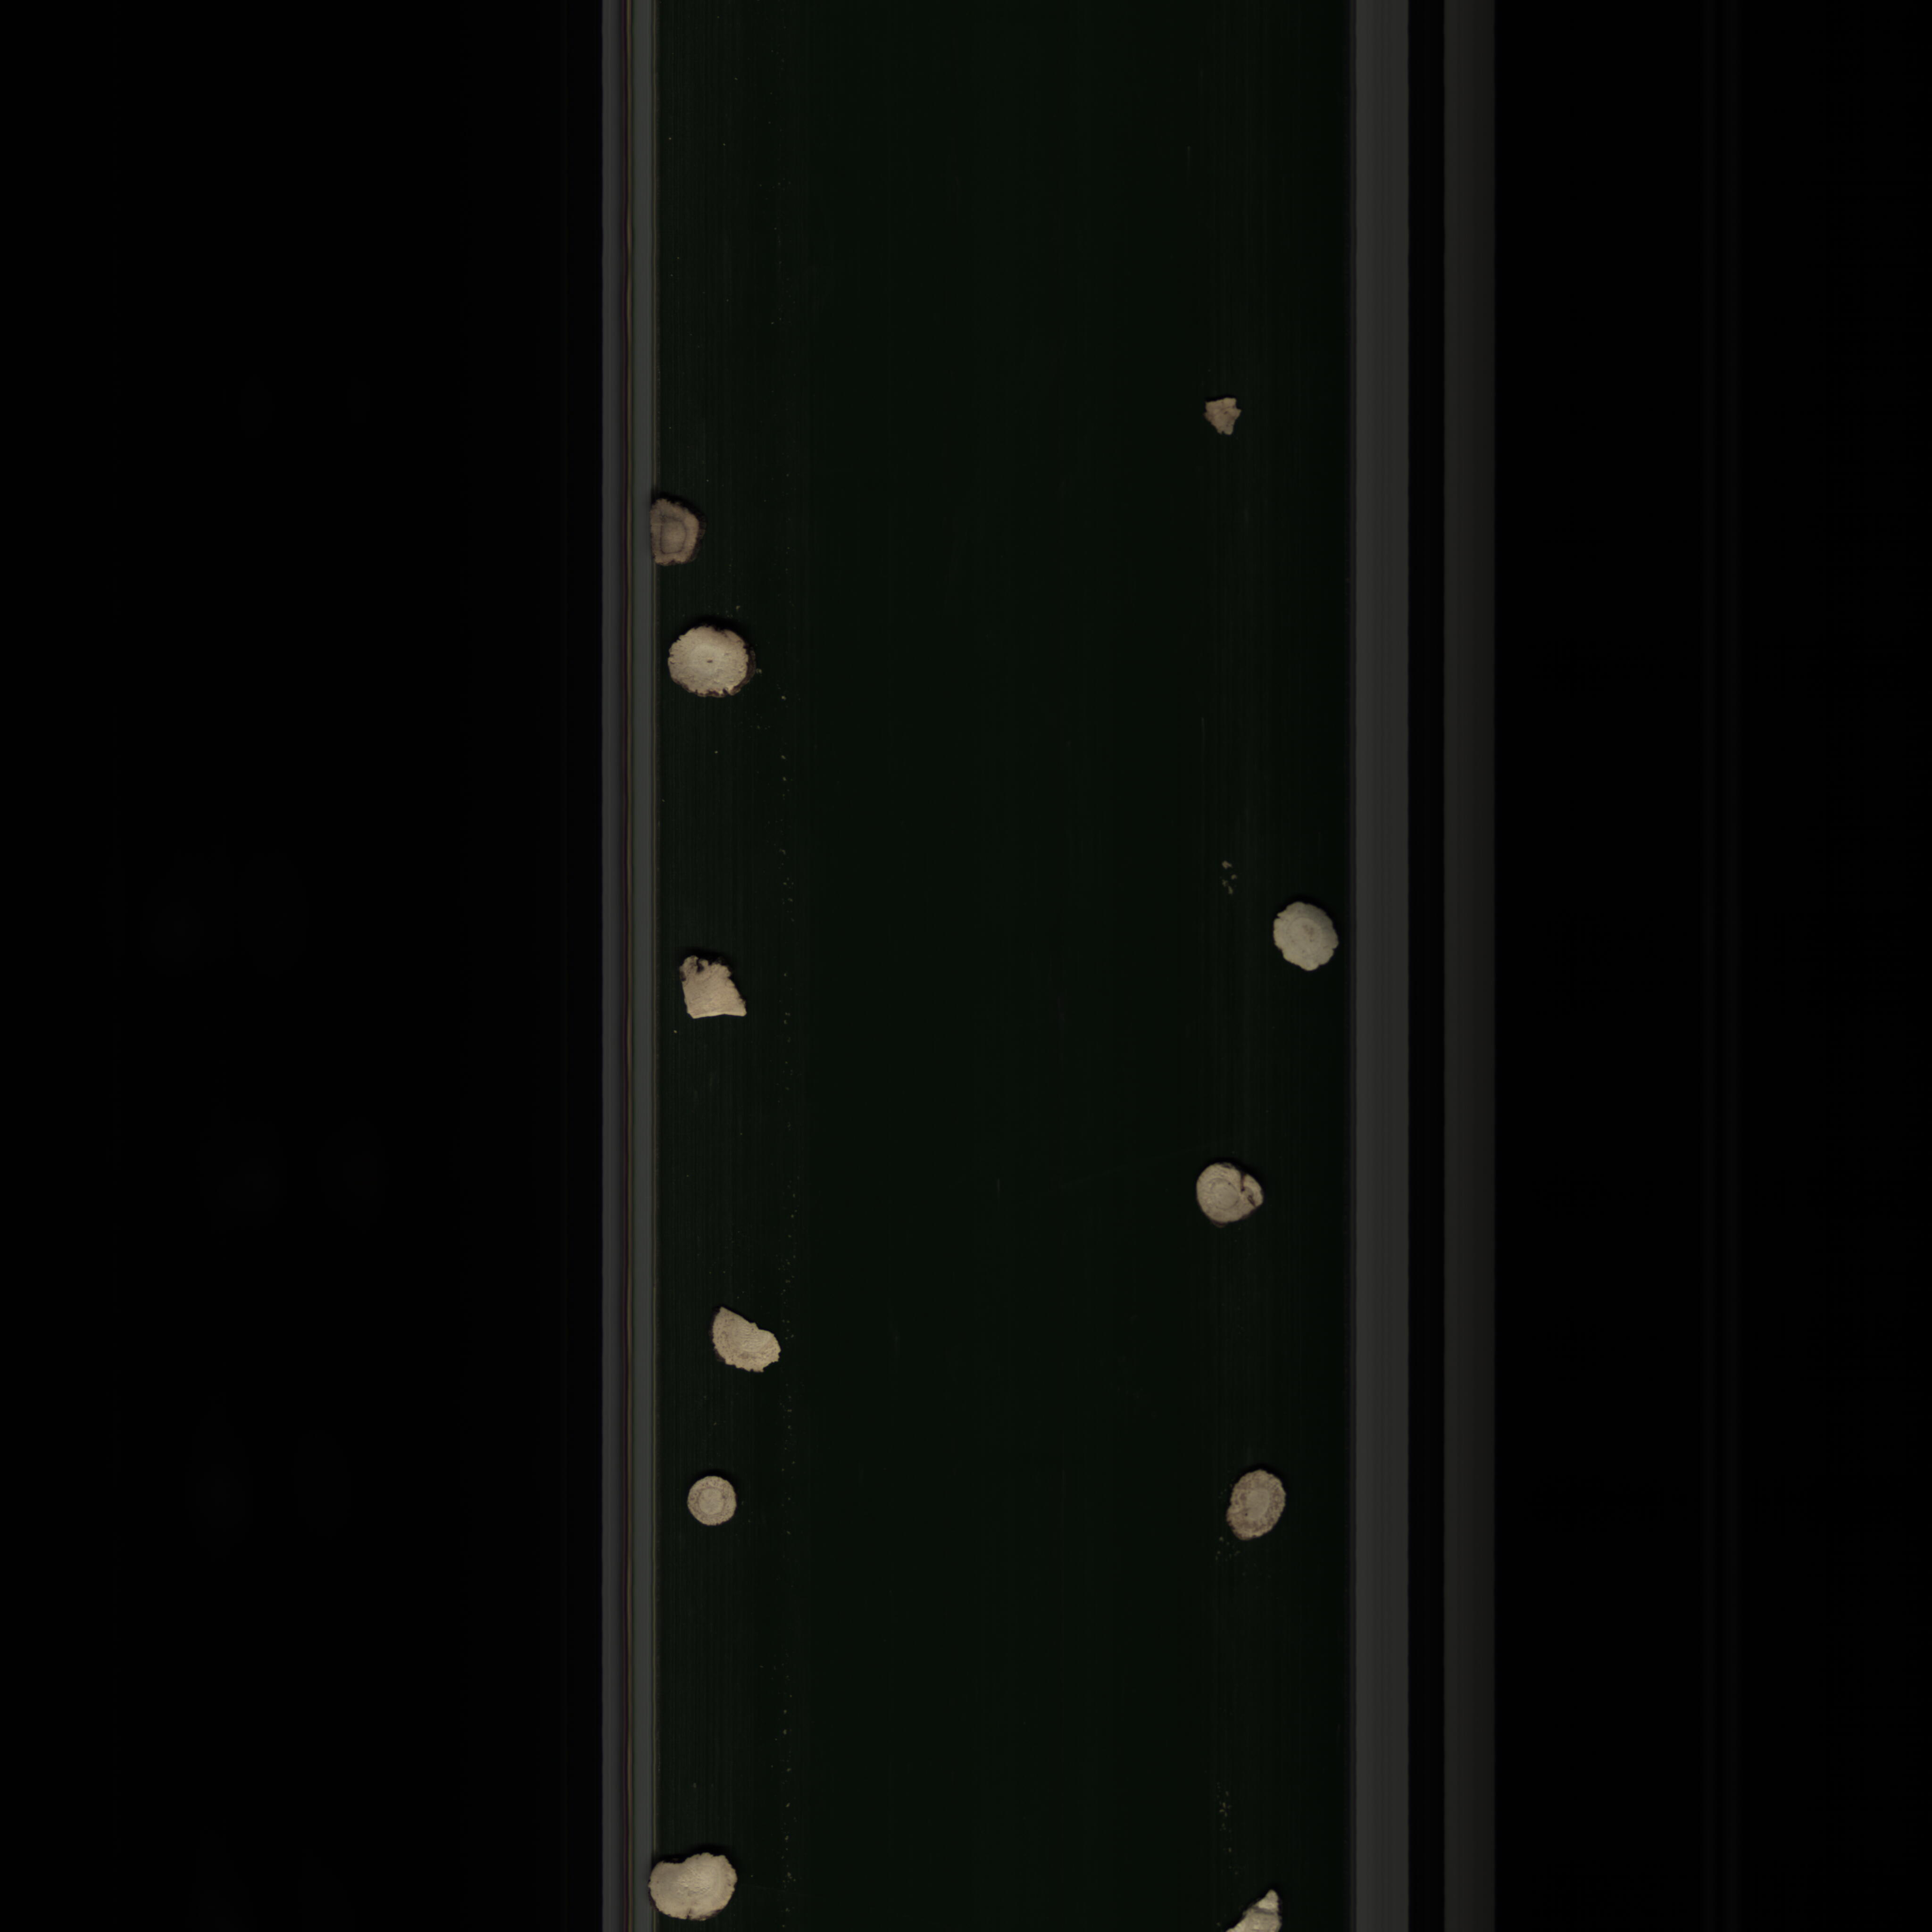bark: (1200, 389, 1242, 441)
debris: (671, 947, 764, 1042), (706, 1300, 793, 1394)
moldy: (640, 492, 717, 579)
